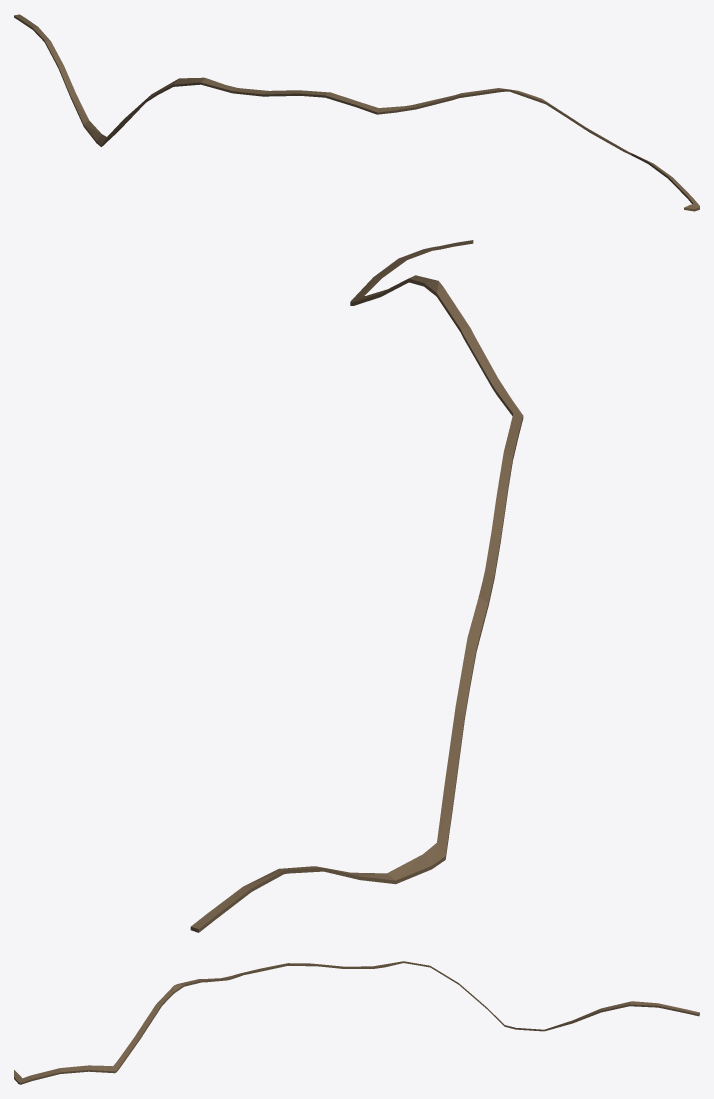
The picture shows the model from 3 angles, top to bottom: view 1: azimuth 30°, elevation 25°; view 2: azimuth 150°, elevation 25°; view 3: azimuth 270°, elevation 25°; orthographic projection. The views are drawn at different scales.
Bounding box in the file's own units: 101 × 49.75 × 241.
